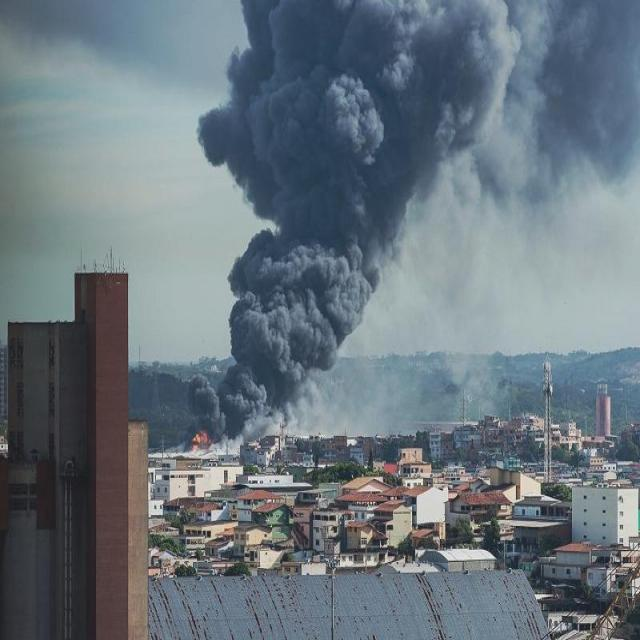Fire: (190, 432, 210, 449)
